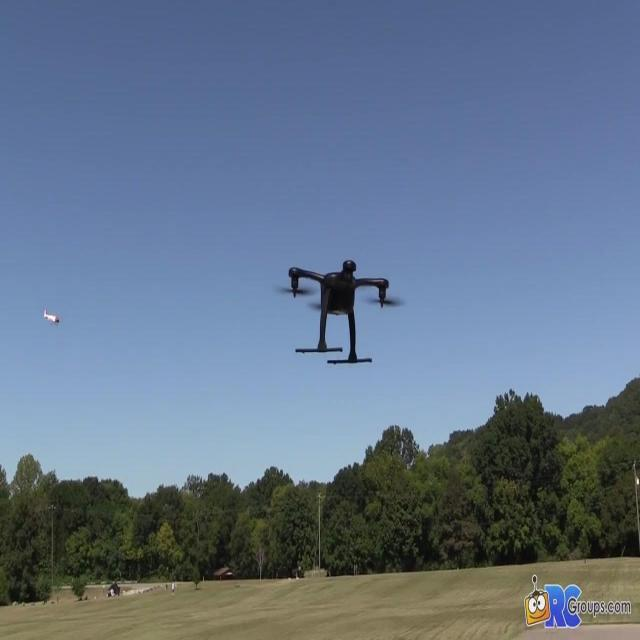drone: (286, 256, 392, 372)
